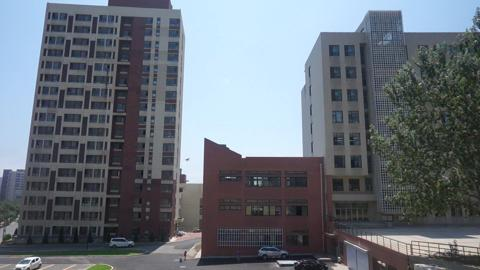UAV: (184, 158, 192, 162)
